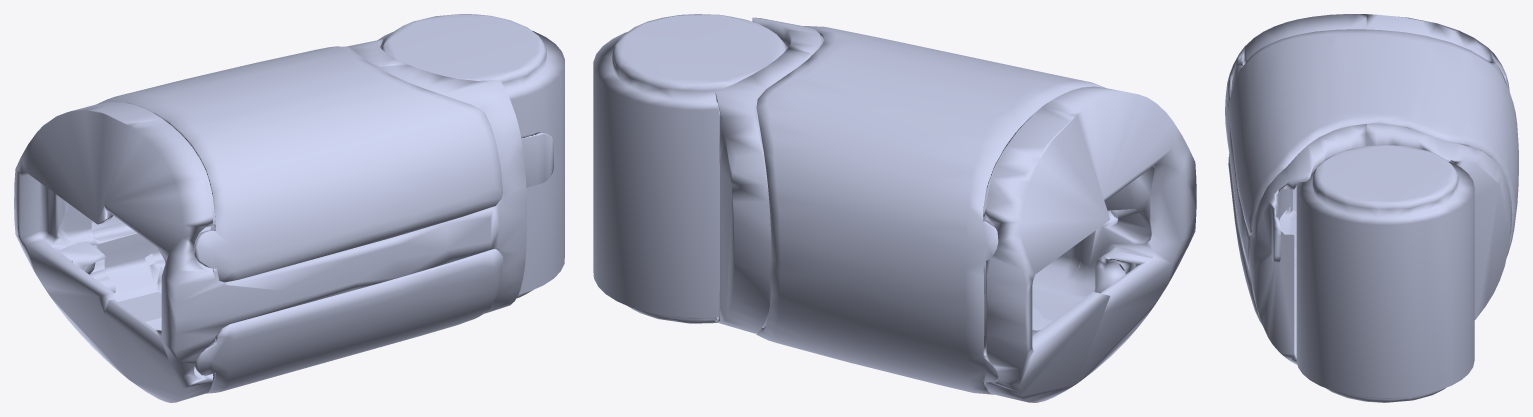
File: left_thumb_PP_visual_cad1ee.glb
3 views of the same model, side by side, from view 1: azimuth 30°, elevation 25°; view 2: azimuth 150°, elevation 25°; view 3: azimuth 270°, elevation 25° (orthographic). The views are drawn at different scales.
Visible parts, largest first — view 1: left_thumb_PP_visual_0; view 2: left_thumb_PP_visual_0; view 3: left_thumb_PP_visual_0.
Boxes of the visible parts, box(x1,y1,x2,y2) form: left_thumb_PP_visual_0: box(14, 14, 564, 402); left_thumb_PP_visual_0: box(593, 14, 1196, 402); left_thumb_PP_visual_0: box(1225, 14, 1518, 402).
Bounding box in the file's own units: 0.0372 × 0.0197 × 0.0231.
